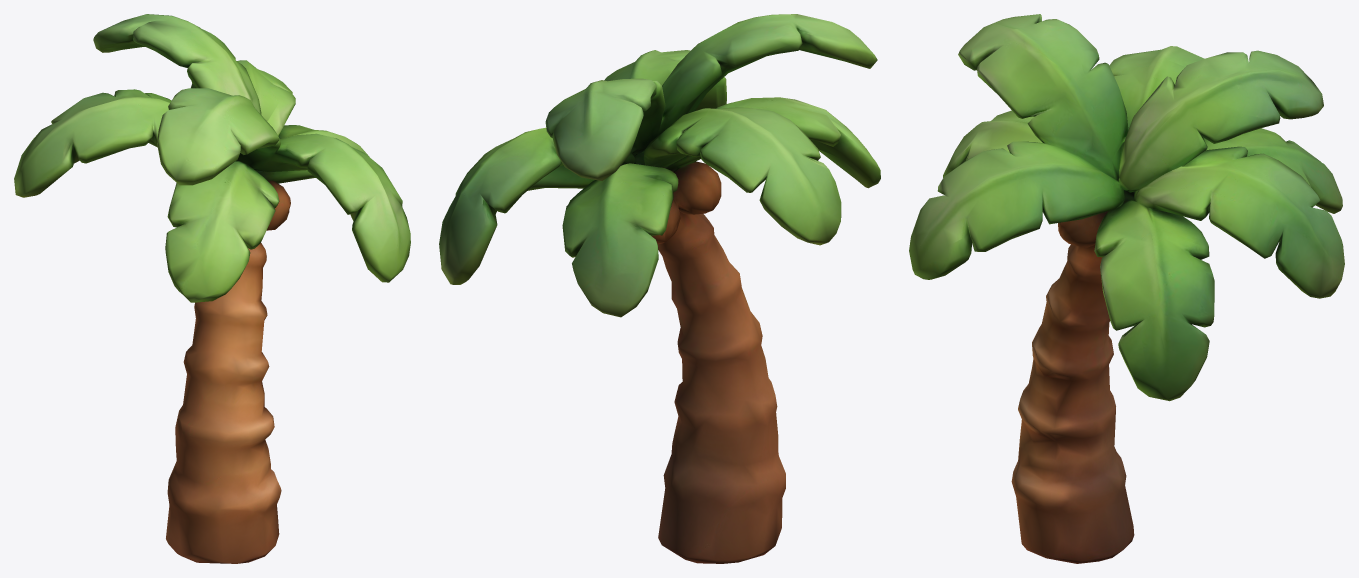
File: palm_l1.glb
3 views of the same model, side by side, from view 1: azimuth 30°, elevation 25°; view 2: azimuth 150°, elevation 25°; view 3: azimuth 270°, elevation 25° (orthographic). The views are drawn at different scales.
Visible parts, largest first — view 1: tripo_node_2e10e8a2-3fec-4771-bced-0935fc4a648e; view 2: tripo_node_2e10e8a2-3fec-4771-bced-0935fc4a648e; view 3: tripo_node_2e10e8a2-3fec-4771-bced-0935fc4a648e.
Boxes of the visible parts, x1=… form: tripo_node_2e10e8a2-3fec-4771-bced-0935fc4a648e: x1=14, y1=14, x2=410, y2=563; tripo_node_2e10e8a2-3fec-4771-bced-0935fc4a648e: x1=439, y1=14, x2=880, y2=563; tripo_node_2e10e8a2-3fec-4771-bced-0935fc4a648e: x1=909, y1=14, x2=1344, y2=563.
Size of the model in its own units: 0.7765 by 0.9794 by 0.7802.
Materials: 1 (1 with a texture image).
